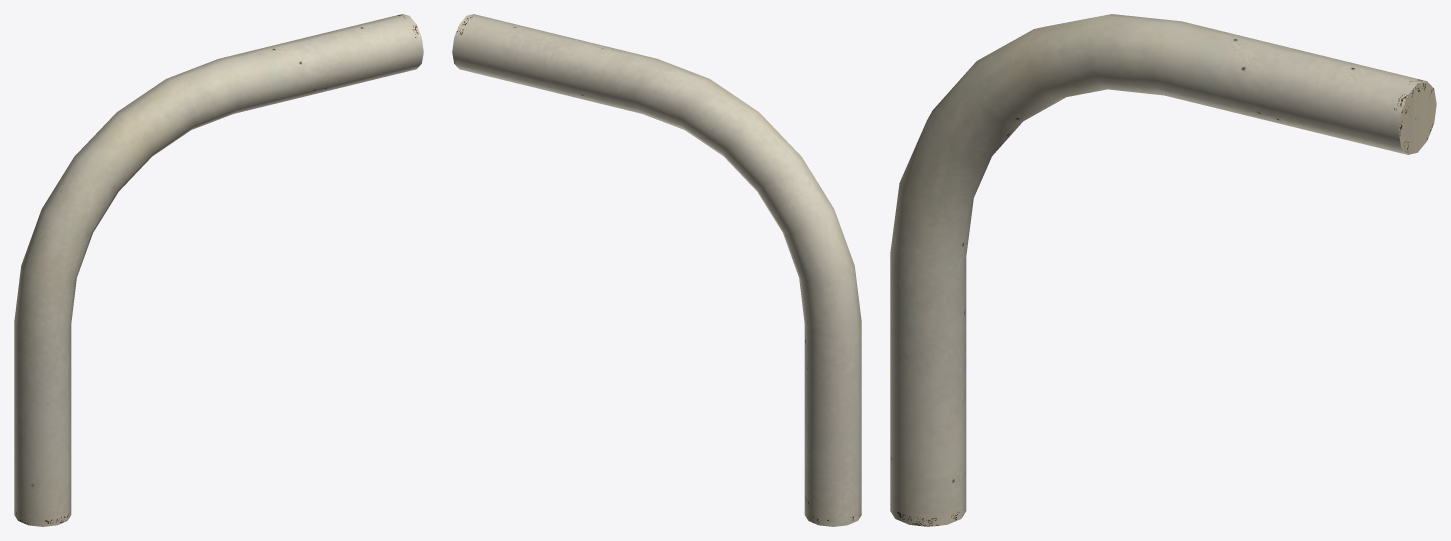
Rendered from pipe_bend_90_web.glb.
3 renders of one model, left to right at view 1: azimuth 30°, elevation 25°; view 2: azimuth 150°, elevation 25°; view 3: azimuth 330°, elevation 25°, orthographic. The views are drawn at different scales.
Parts seen in each view (by area): view 1: PipeBend90_Body; view 2: PipeBend90_Body; view 3: PipeBend90_Body.
Part boxes in pixels (left/top/right/bottom): PipeBend90_Body: left=14, top=14, right=423, bottom=526; PipeBend90_Body: left=452, top=14, right=861, bottom=526; PipeBend90_Body: left=890, top=14, right=1436, bottom=526.
Bounding box in the file's own units: 0.2135 × 0.2135 × 0.027.
1 material, 1 textured.
